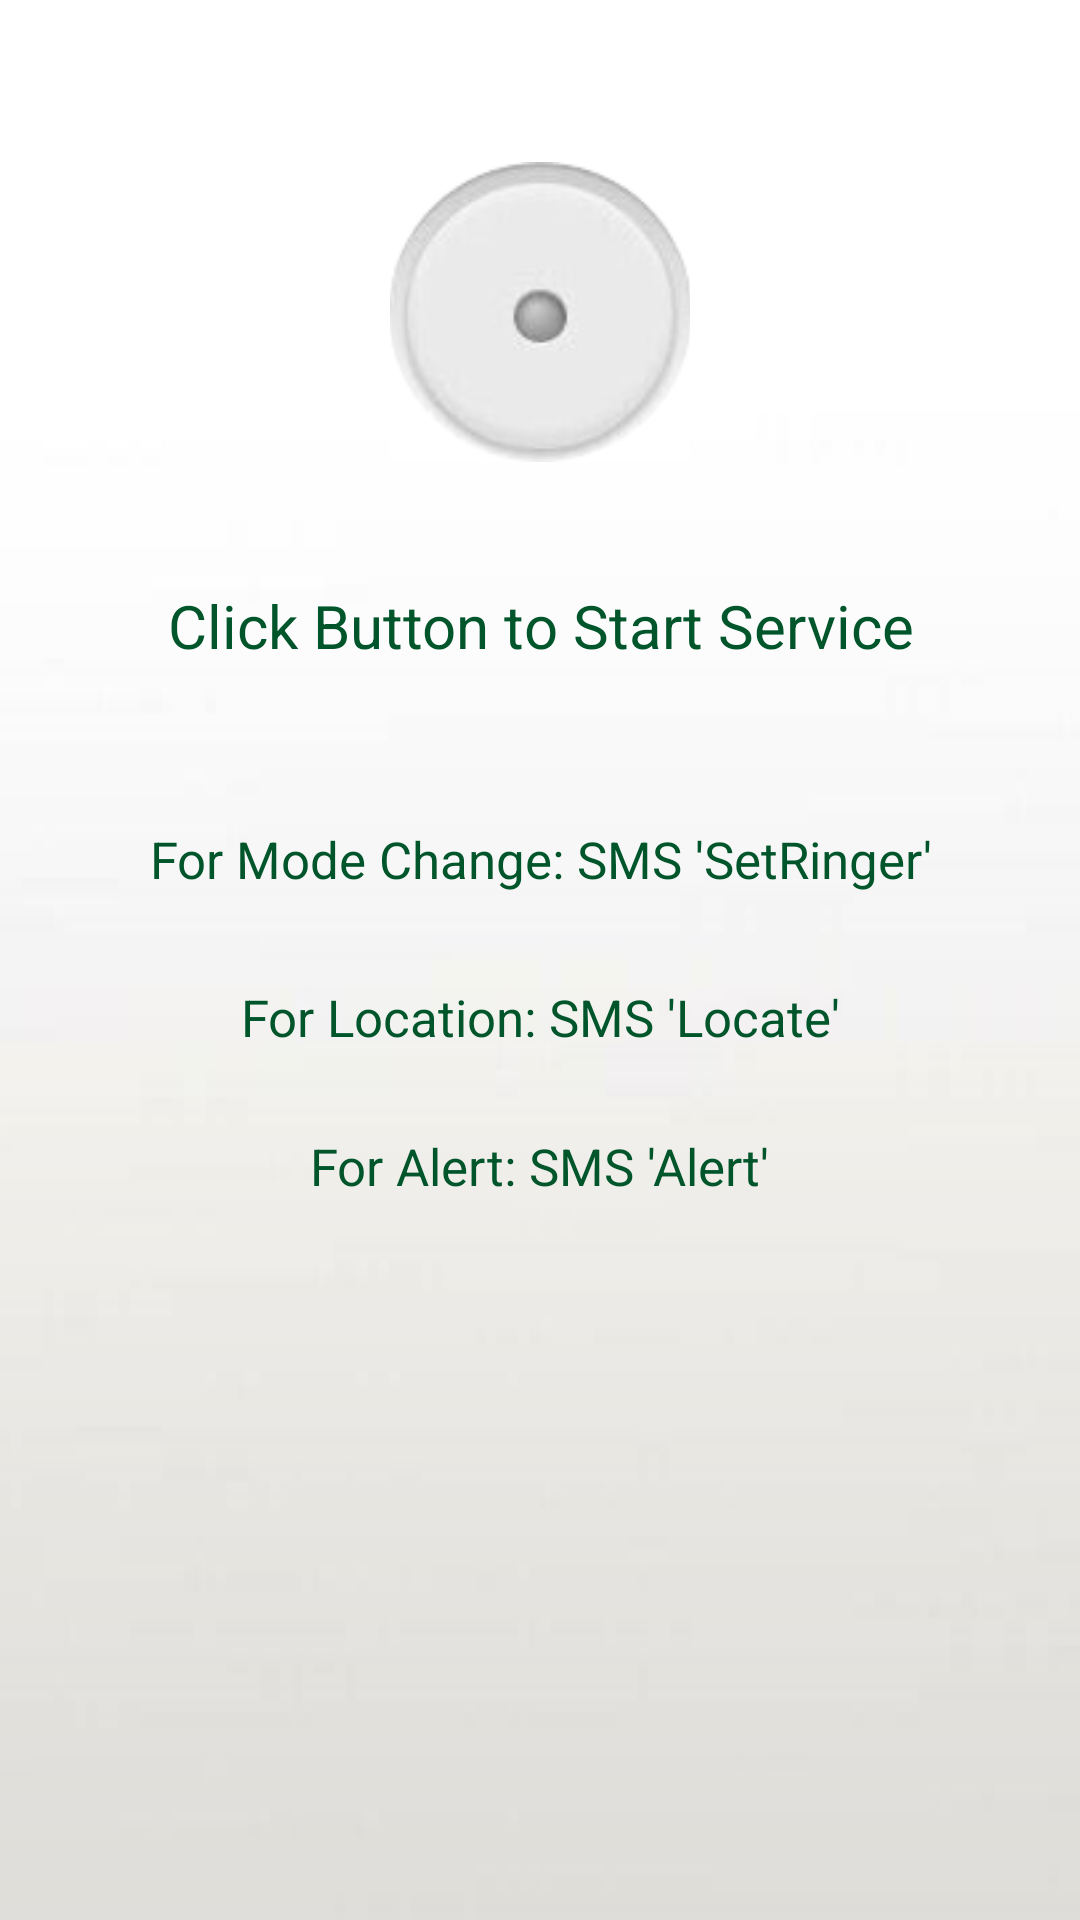

Icons on this 1080px×1920px Android screen, each with the point to tap as [x,y]:
off: [540,312]
